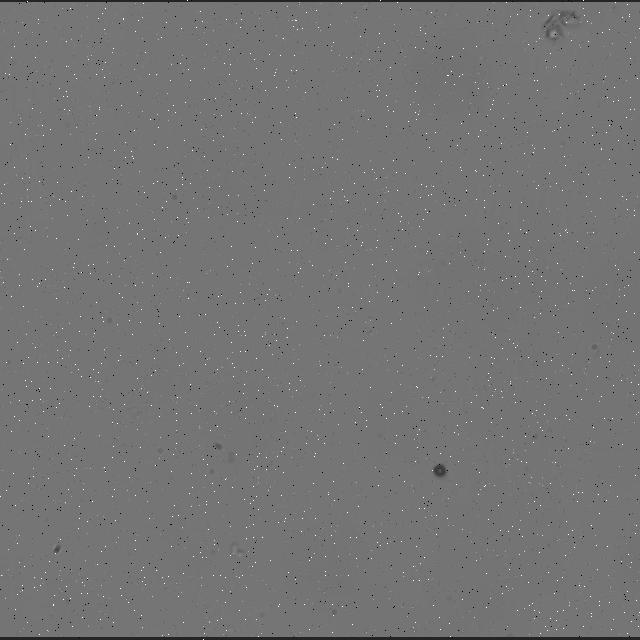microbeads: (432, 462, 446, 482)
